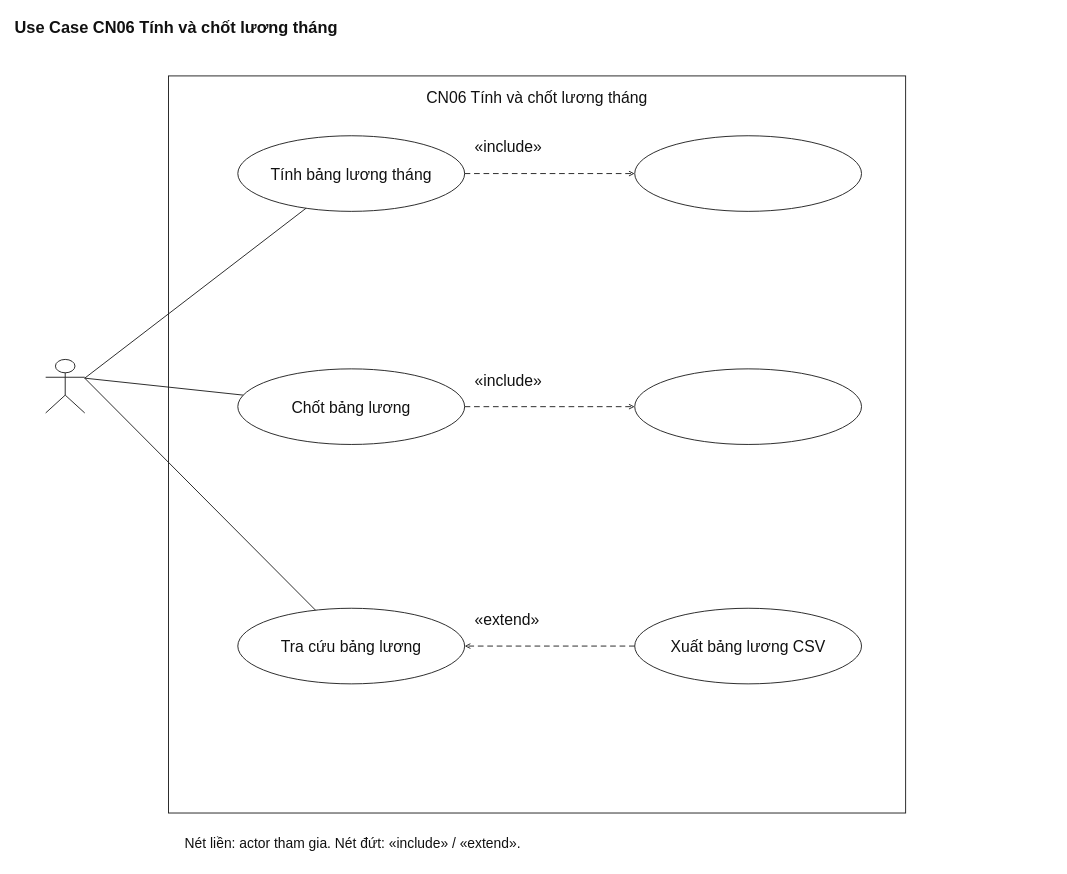
Image size: 1067x874. Some labels were removed from this diagram. Each missing label, with the centre of its shape:
"Kế toán" goes at (x=65, y=386).
"Đọc công lương và bảo hiểm" goes at (x=748, y=173).
"Đối soát nguồn và quyết định" goes at (x=748, y=406).
